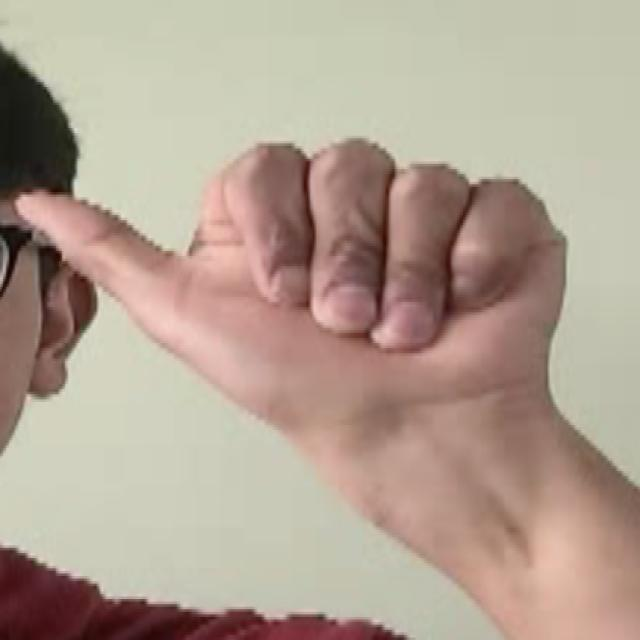A: (10, 112, 583, 483)
